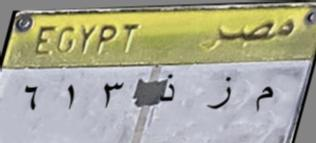1: (60, 79, 85, 117)
3: (101, 76, 126, 113)
6: (18, 78, 41, 116)
meem: (249, 81, 277, 120)
zaal: (156, 70, 178, 107)
zay: (204, 73, 239, 114)
